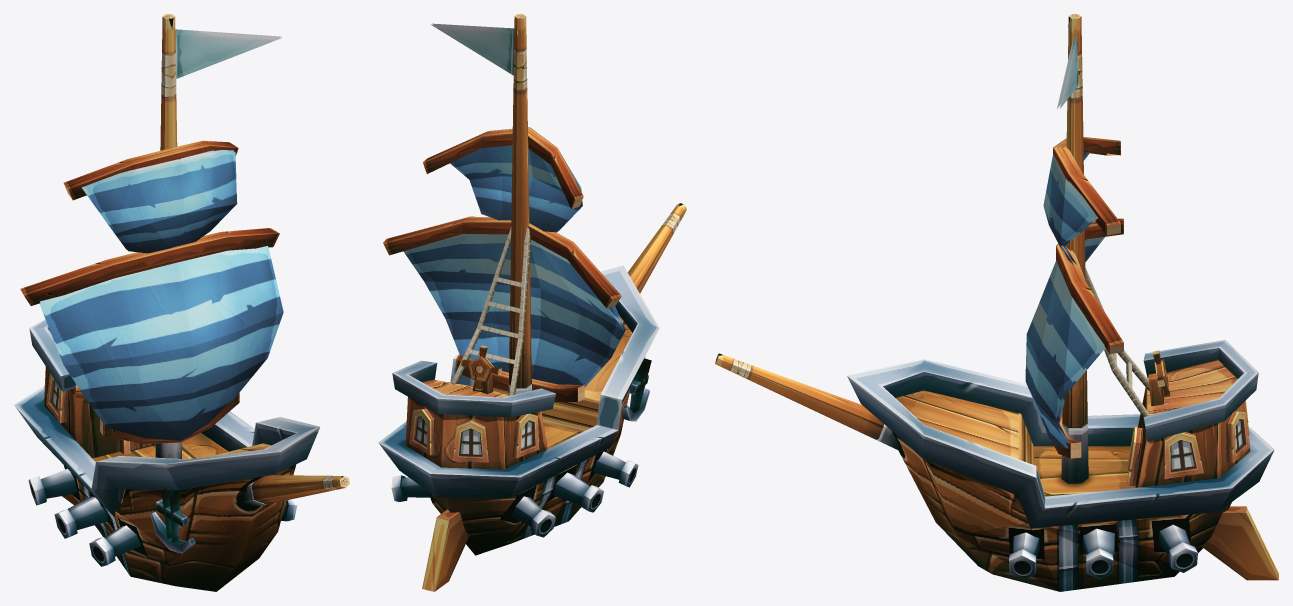
The picture shows the model from 3 angles, left to right: view 1: azimuth 30°, elevation 25°; view 2: azimuth 150°, elevation 25°; view 3: azimuth 270°, elevation 25°; orthographic projection. The views are drawn at different scales.
Visible parts, largest first — view 1: pirate_boat_05; view 2: pirate_boat_05; view 3: pirate_boat_05.
Boxes of the visible parts, box(x1,y1,x2,y2) form: pirate_boat_05: box(14, 14, 349, 591); pirate_boat_05: box(378, 14, 686, 591); pirate_boat_05: box(715, 14, 1278, 591).
Size of the model in its own units: 8.63 by 18.19 by 16.19.
